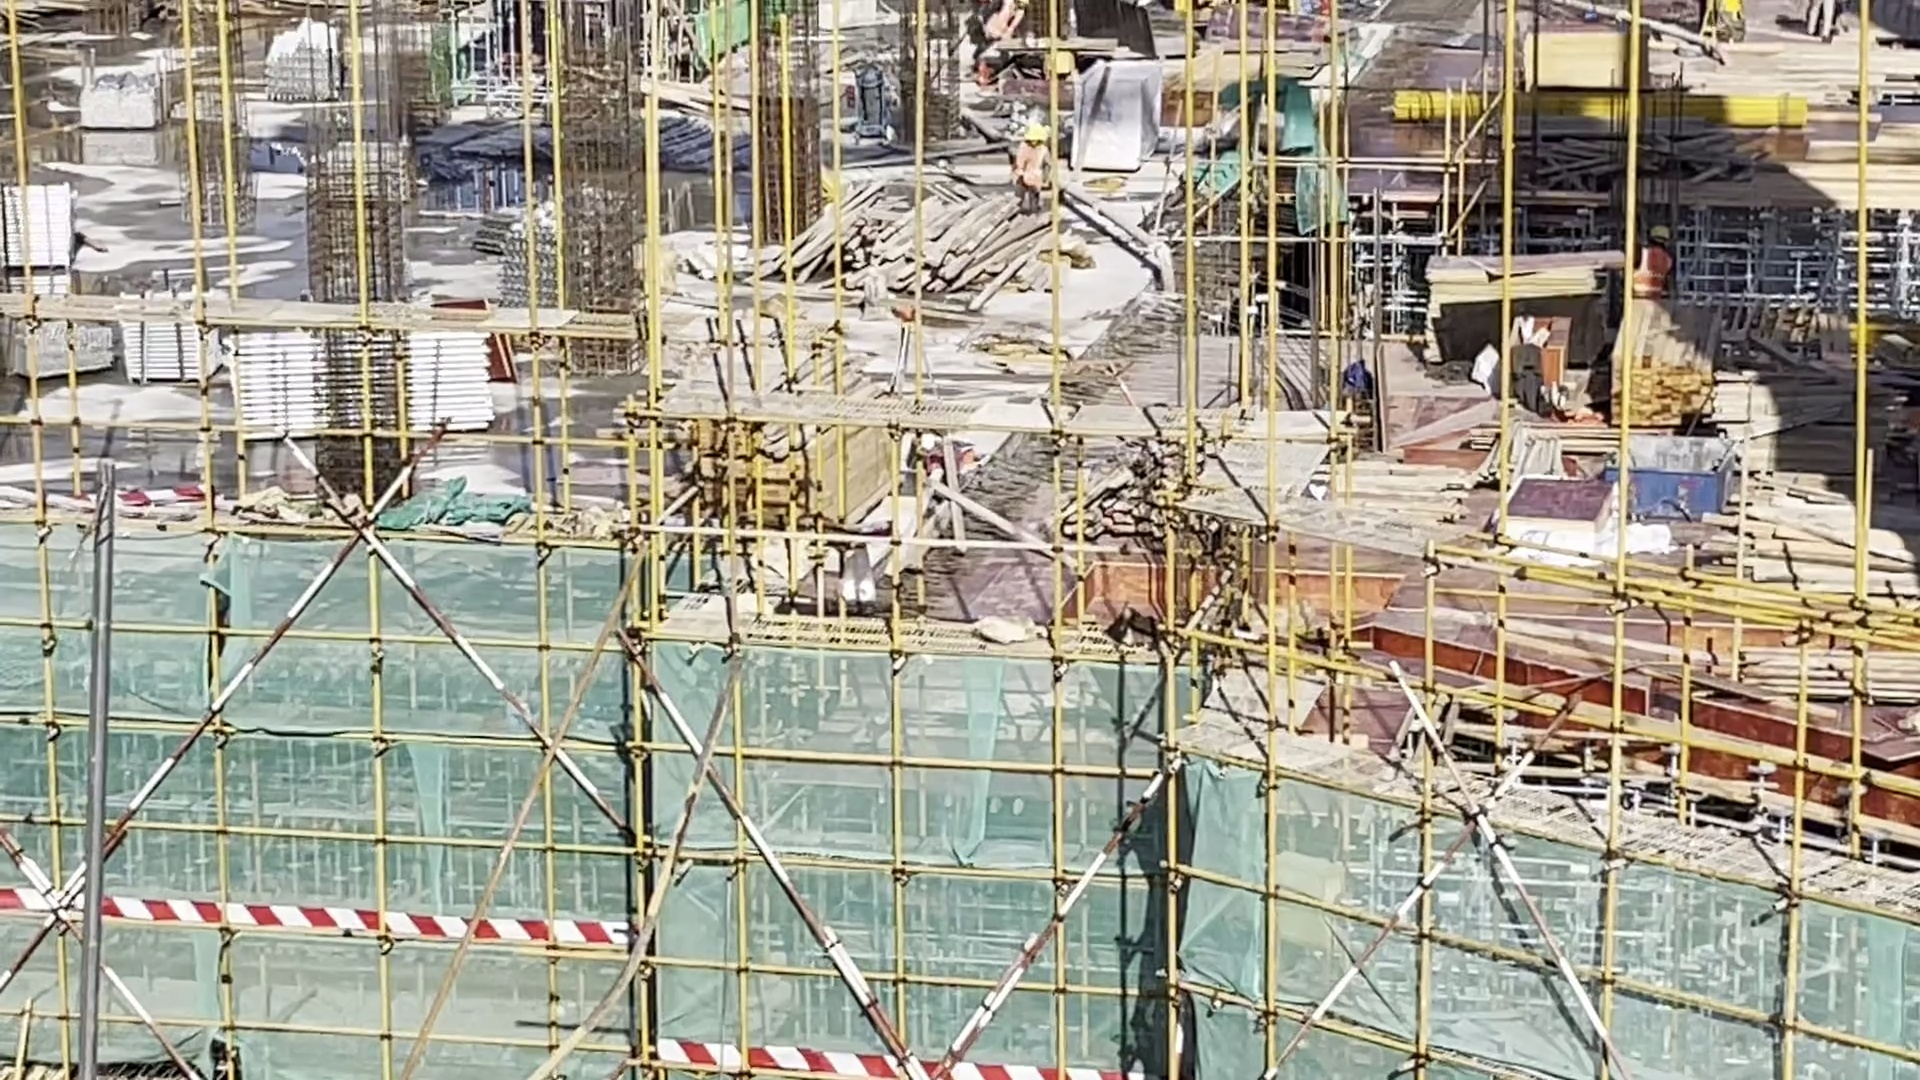helmet: (1646, 223, 1674, 252), (1019, 116, 1048, 138)
hopper: (1596, 419, 1744, 527)
person: (905, 428, 974, 497), (1005, 115, 1054, 206), (1633, 218, 1675, 302)
scaffold: (219, 333, 489, 438), (259, 9, 362, 123), (107, 293, 215, 393), (11, 192, 99, 272)
vest: (1637, 247, 1670, 296), (1014, 146, 1048, 189)
wood: (767, 168, 1052, 335), (1601, 308, 1744, 439), (1717, 631, 1920, 718), (667, 422, 838, 524)
